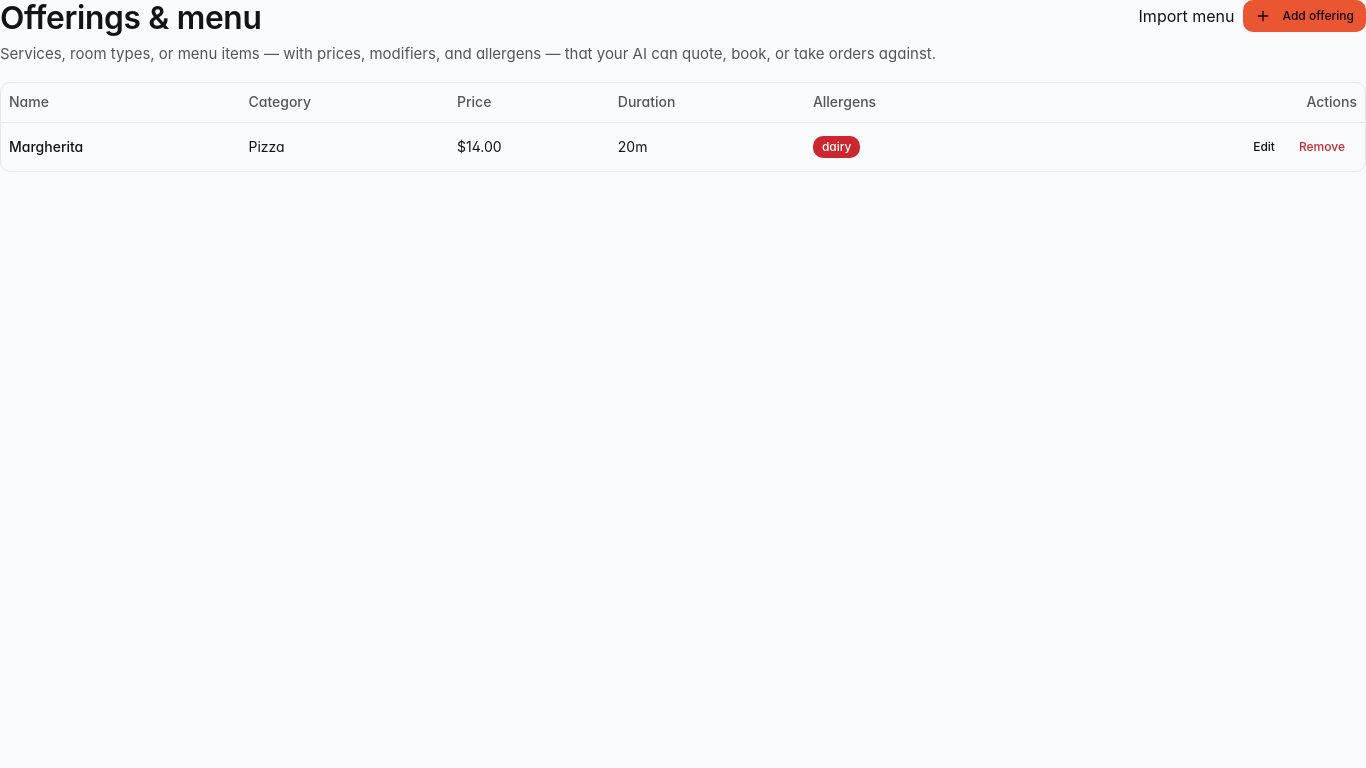
Setup → Offerings dialog (QA-1 F-1) › opens the Add dialog without crashing (FormLabel outside FormField used to throw)
This screenshot has width=1366, height=768.
Click the button "Add offering" at coordinates (1304, 16), box [1242,0,1365,32]
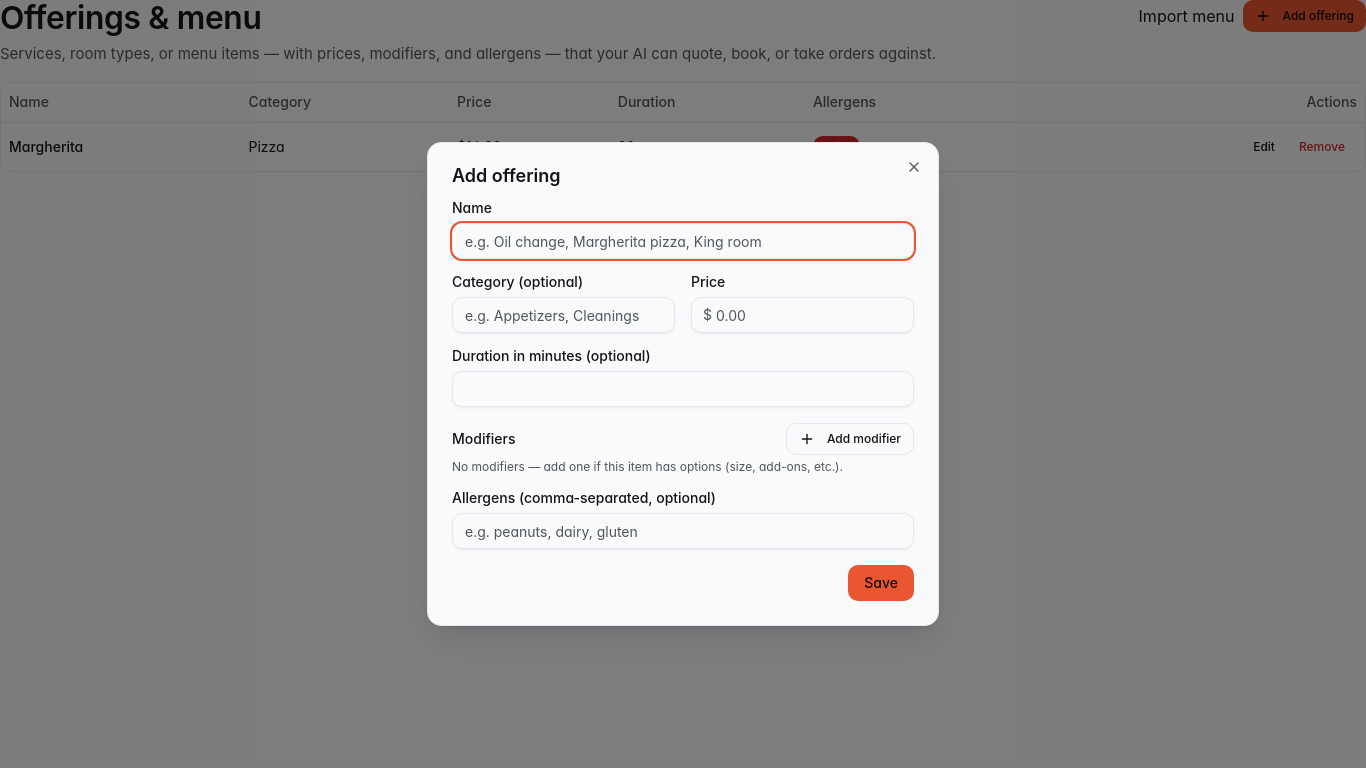
Now the dialog is shown, box [427,142,939,626]
Now the text "Modifiers" is shown, box [452,432,516,446]
